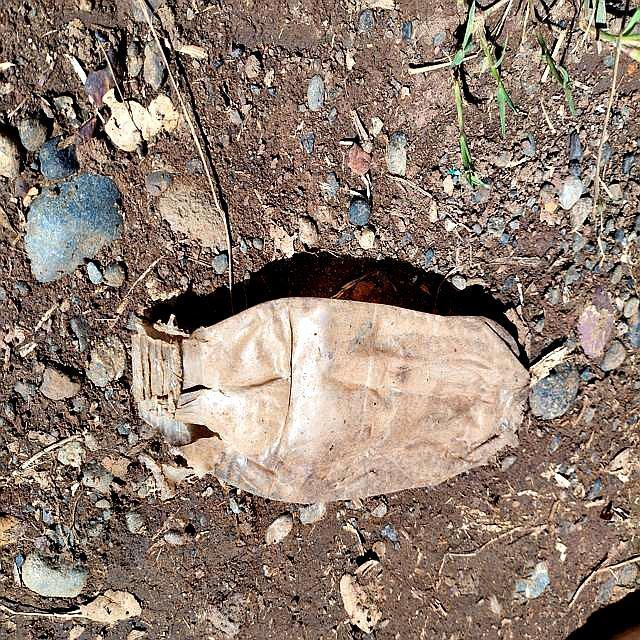Non-biodegradable: (129, 295, 527, 501)
